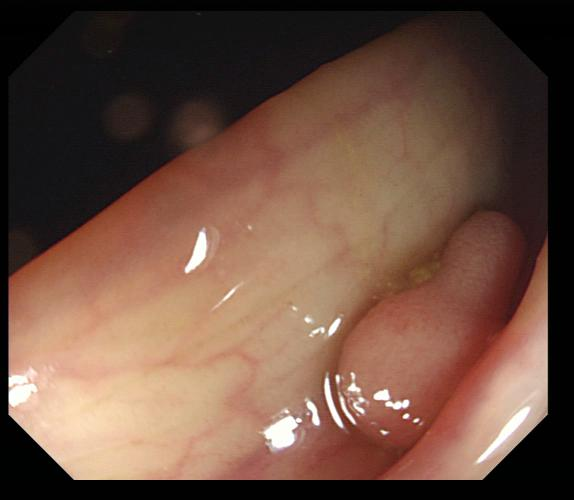polyp: (336, 210, 526, 449)
